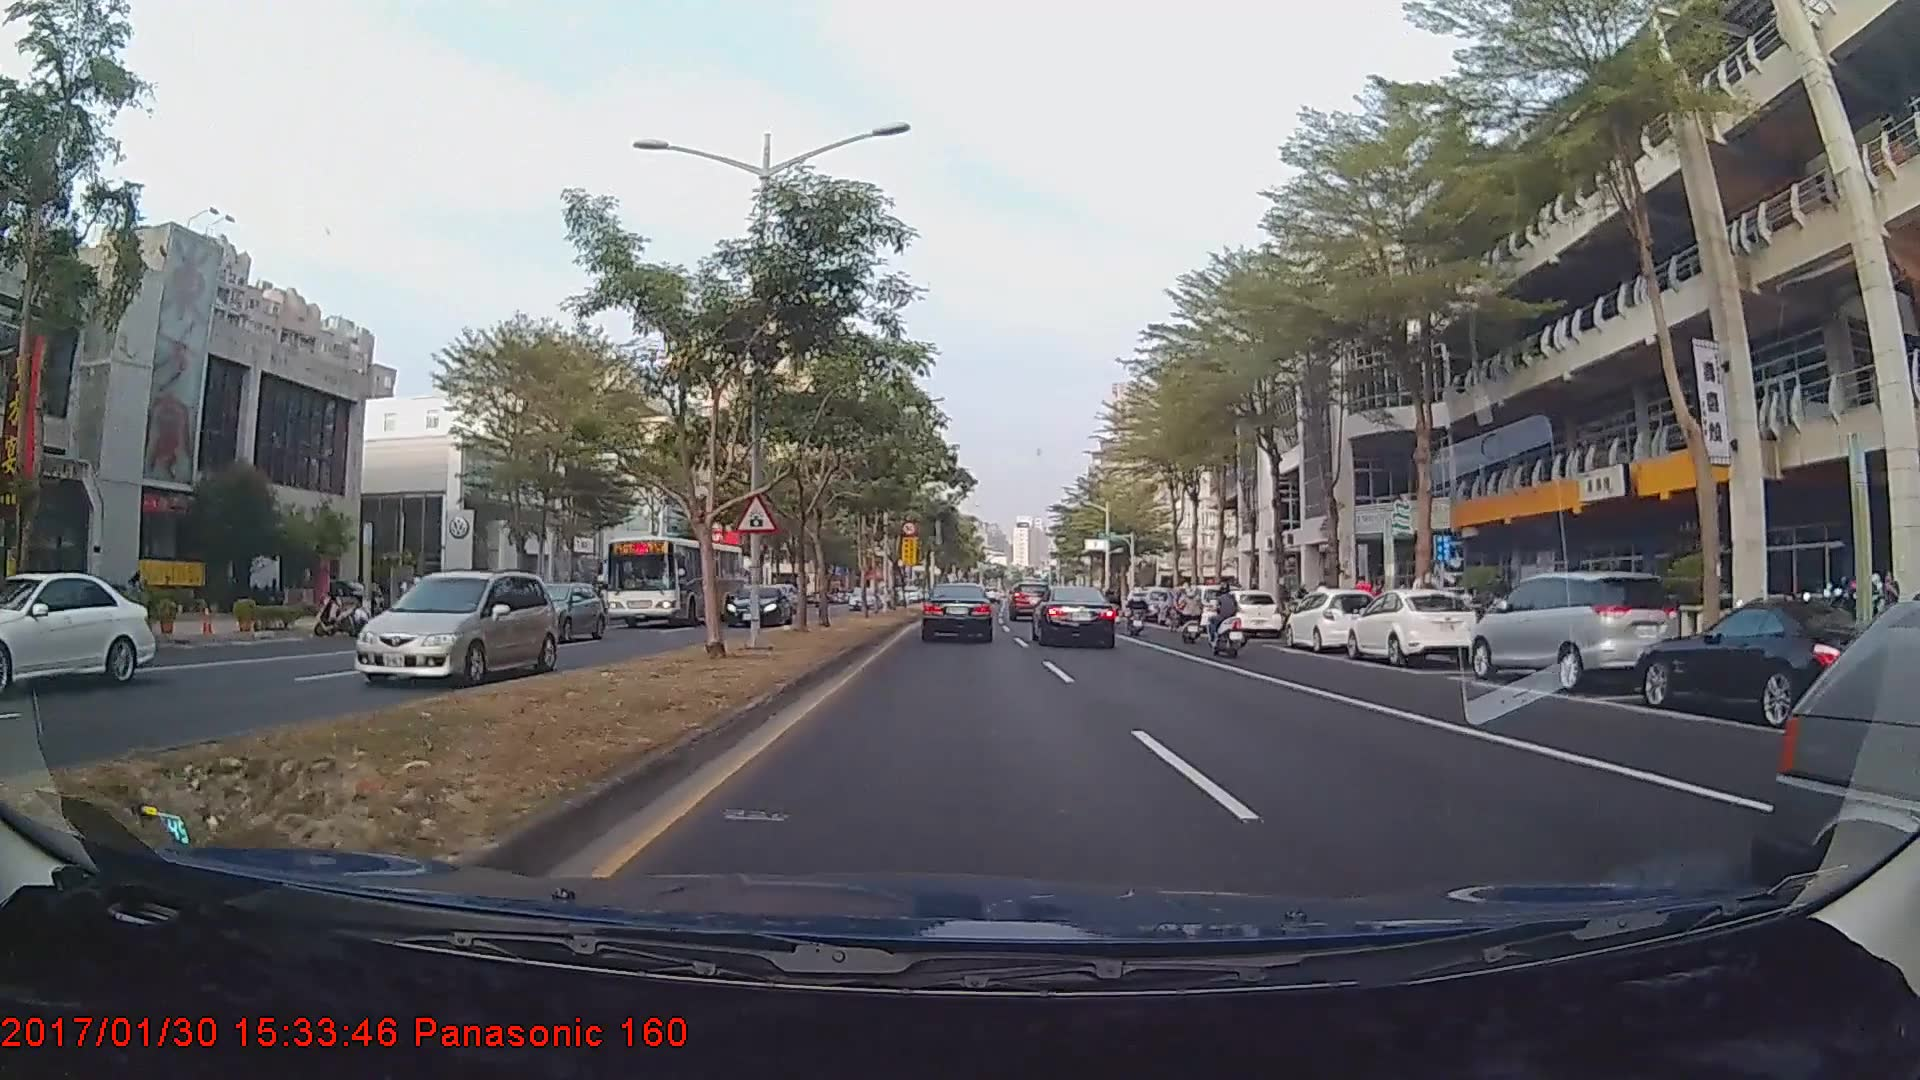rider: (1204, 582, 1253, 661), (1167, 590, 1213, 646), (1122, 586, 1149, 638)
vehicle: (1629, 599, 1901, 728), (1775, 613, 1918, 840), (1465, 569, 1681, 695), (350, 568, 559, 687), (0, 569, 155, 695), (603, 534, 748, 628), (1344, 589, 1479, 666), (1281, 588, 1382, 654), (509, 581, 602, 643), (1034, 585, 1117, 648), (920, 581, 995, 644), (1208, 589, 1281, 638), (723, 583, 793, 626), (1007, 586, 1049, 625), (847, 586, 881, 611)
